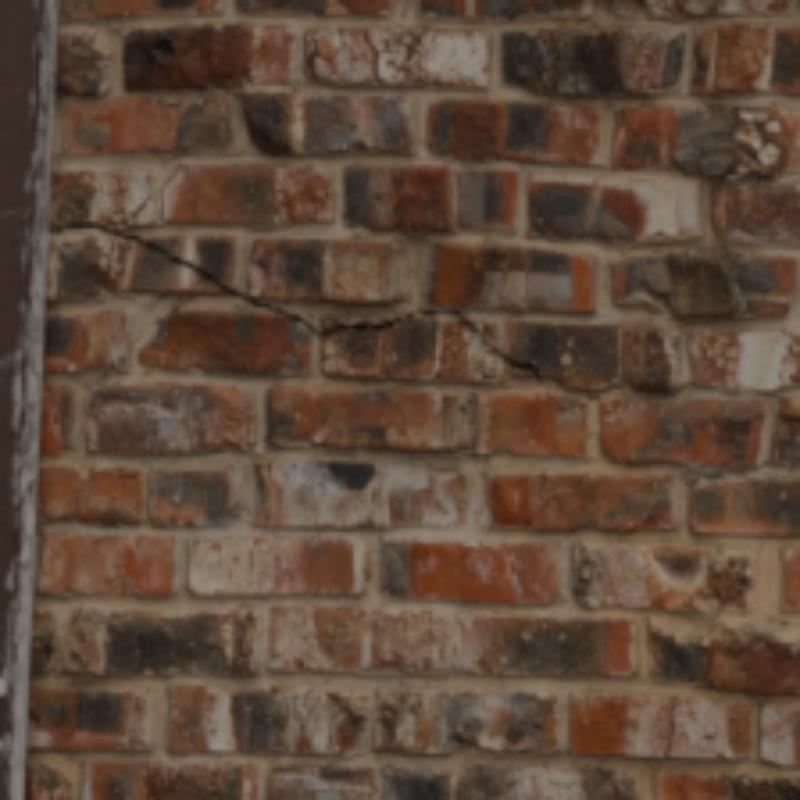crack: (269, 306, 539, 379), (71, 221, 252, 299), (364, 32, 389, 82)
